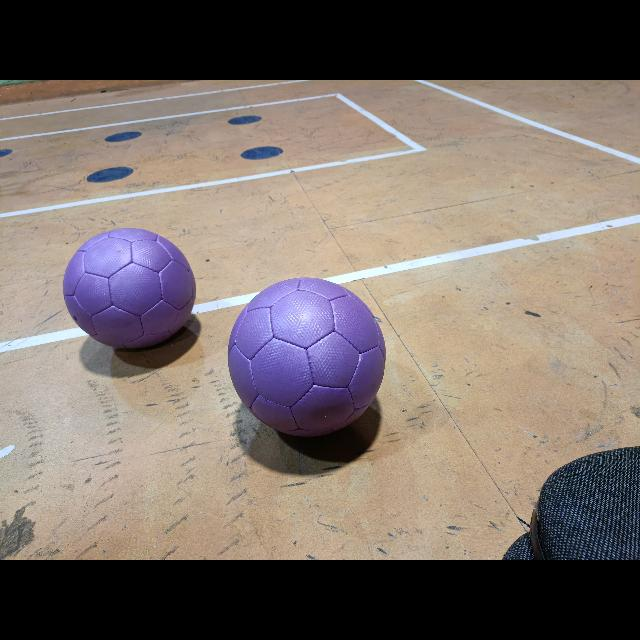P: (228, 278, 386, 437), (63, 228, 195, 348)
